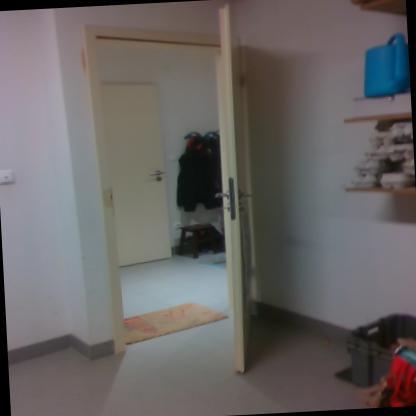semi: (86, 16, 274, 370)
